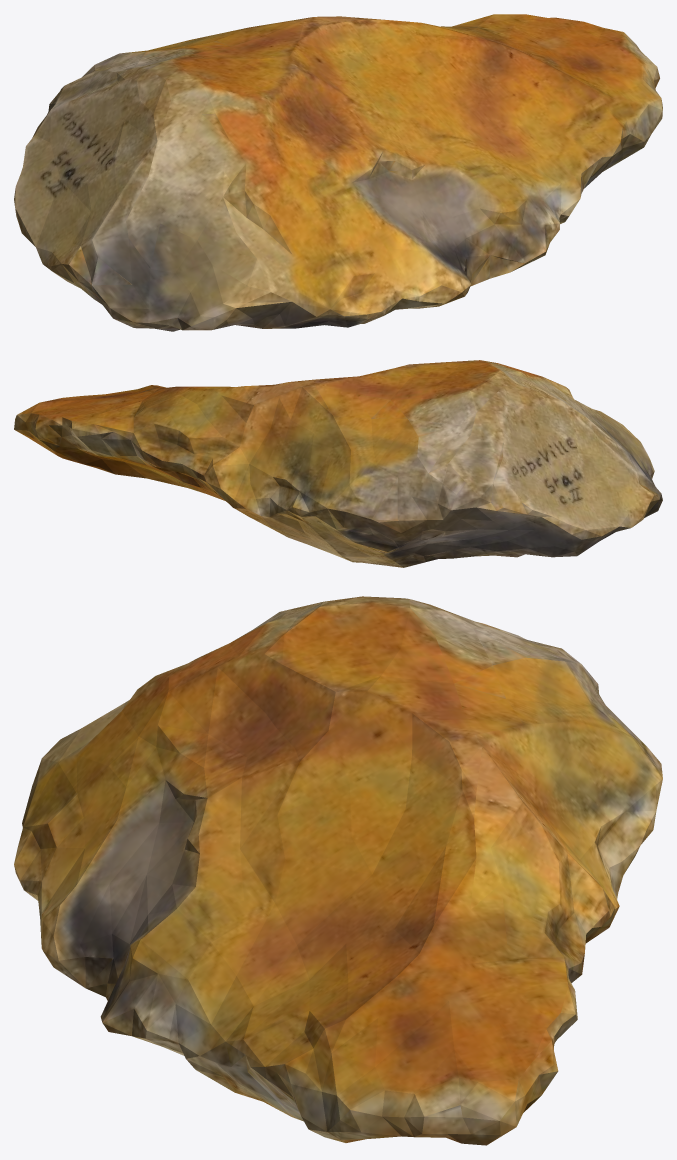
Rendered from acheul.glb.
3 renders of one model, top to bottom at view 1: azimuth 30°, elevation 25°; view 2: azimuth 150°, elevation 25°; view 3: azimuth 270°, elevation 25°, orthographic. The views are drawn at different scales.
Visible parts, largest first — view 1: Acheulean-Hand-Axe-(518a2).001; view 2: Acheulean-Hand-Axe-(518a2).001; view 3: Acheulean-Hand-Axe-(518a2).001.
Boxes of the visible parts, x1,y1,x2,y2 form: Acheulean-Hand-Axe-(518a2).001: (14,14,662,331); Acheulean-Hand-Axe-(518a2).001: (14,360,662,567); Acheulean-Hand-Axe-(518a2).001: (14,596,662,1145).
Size of the model in its own units: 0.1672 by 0.0517 by 0.1039.
1 material, 1 textured.
